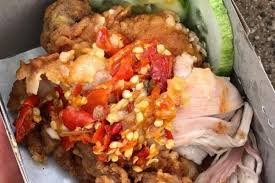ayam_geprek: (26, 9, 249, 181)
